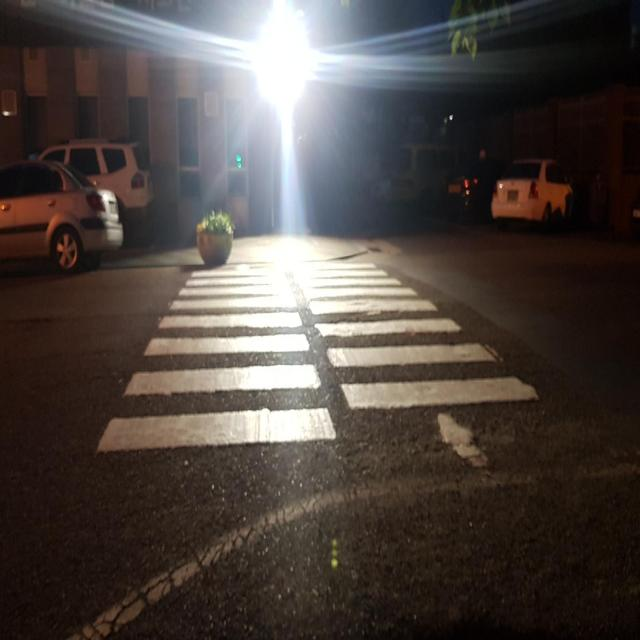횡단보도: (96, 265, 539, 460)
